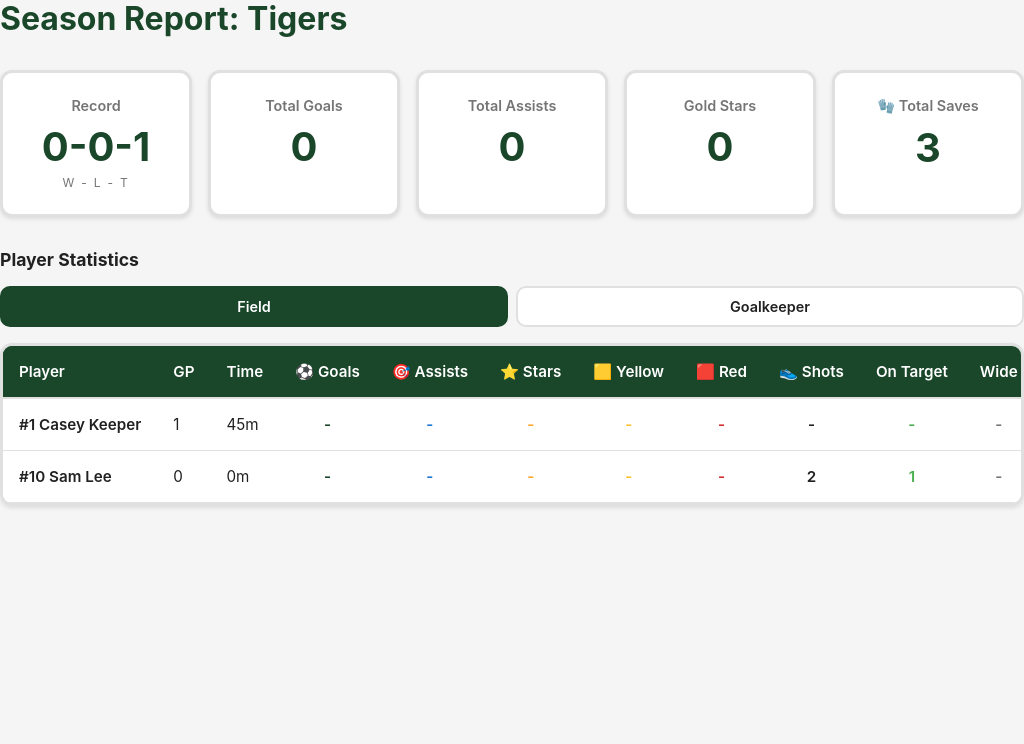
it: TeamReport › Issue #203: Saves by Goalie › drill-down for a keeper-experienced player shows the keeper breakout card above Play Time by Position
expect the text "#1 Casey Keeper" is shown: met, box [3, 398, 157, 450]
Click the text "#1 Casey Keeper 1 45m - - - - - - - - -": (514, 424) [3, 398, 1023, 450]
(page scrolled)
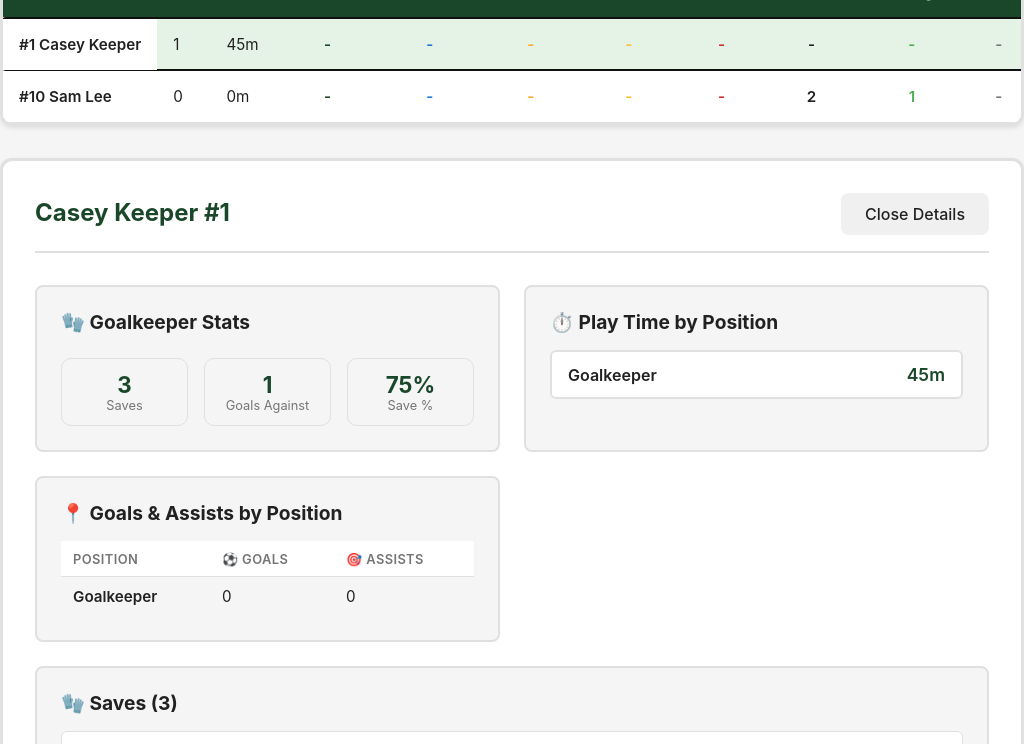
expect the heading "🧤 Goalkeeper Stats" is shown: met, box [61, 310, 250, 334]
